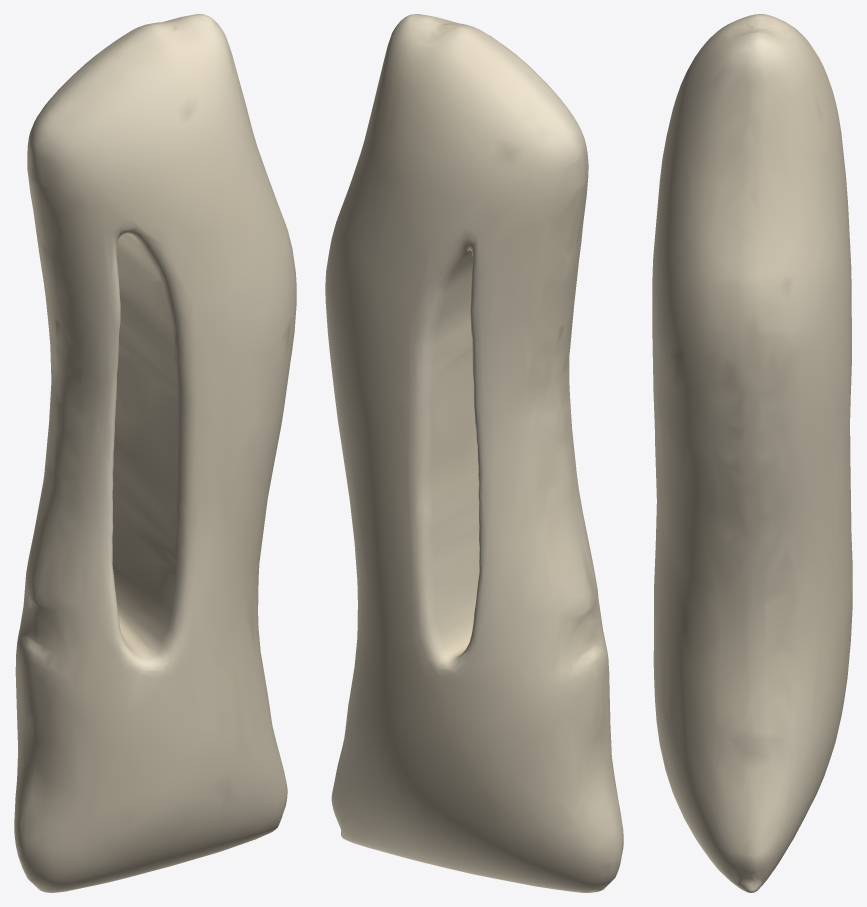
File: queen-white.glb
3 views of the same model, side by side, from view 1: azimuth 30°, elevation 25°; view 2: azimuth 150°, elevation 25°; view 3: azimuth 270°, elevation 25° (orthographic). The views are drawn at different scales.
Parts seen in each view (by area): view 1: Lumen dama bila; view 2: Lumen dama bila; view 3: Lumen dama bila.
Part boxes in pixels (x1,y1,x2,y2): Lumen dama bila: (14,14,296,892); Lumen dama bila: (325,14,623,892); Lumen dama bila: (652,14,852,892).
Bounding box in the file's own units: 0.5085 × 1.48 × 0.3275.
